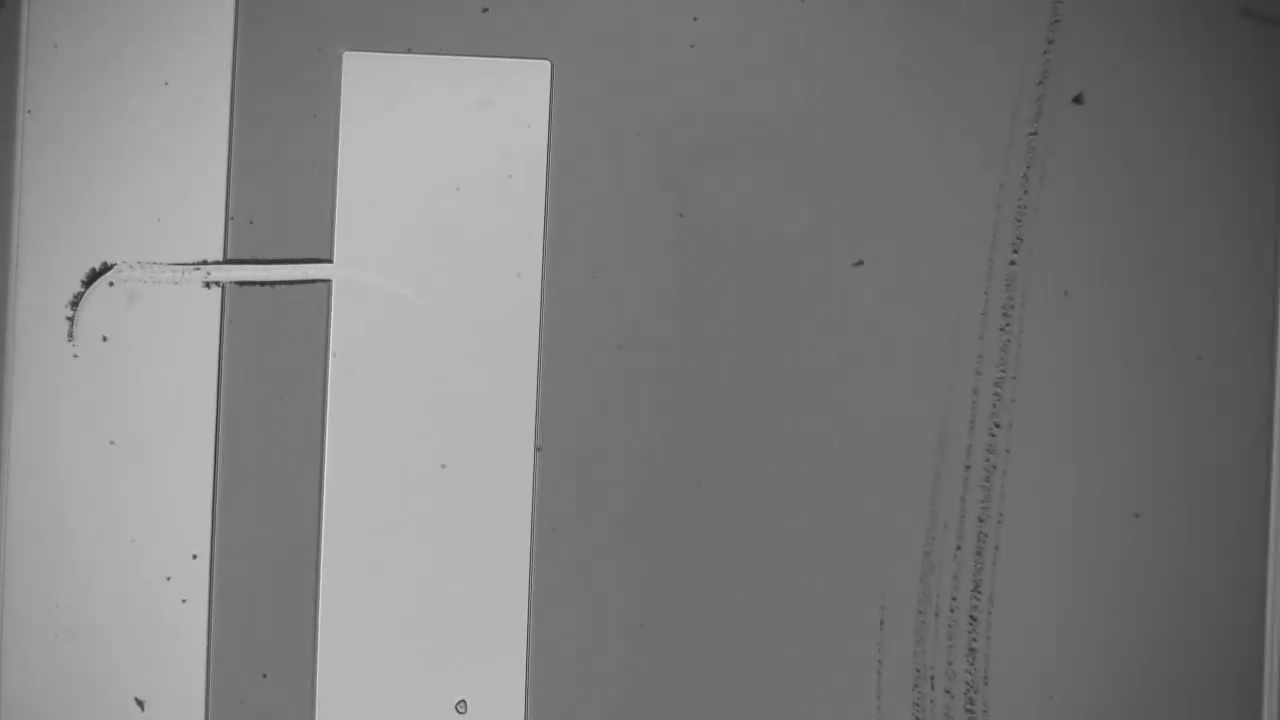Short_circuit: (151, 225, 364, 312)
scratch: (873, 15, 1063, 701)
